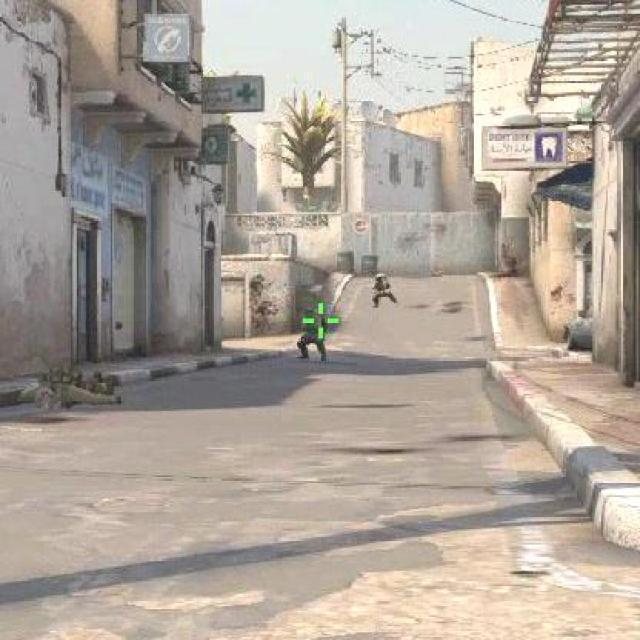CT-Body: (304, 308, 316, 318), (377, 272, 385, 280)
CT-Head: (298, 302, 324, 356), (371, 272, 394, 306)
